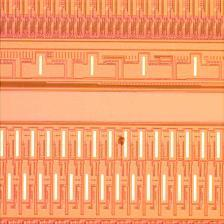PARTICLE: (117, 136, 129, 148)
